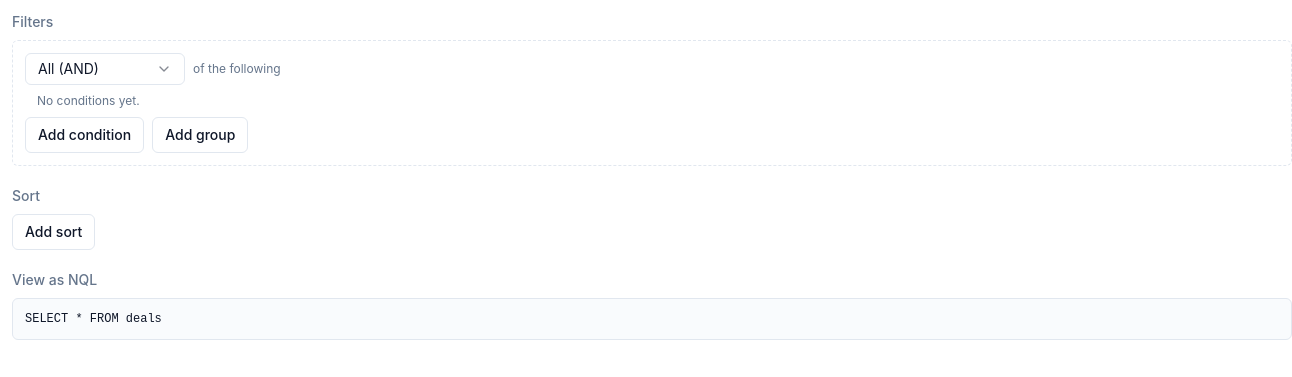
it: QueryBuilder › removes a condition
This screenshot has width=1292, height=377.
Click the button "Add condition" at (85, 135), box [25,117,144,153]
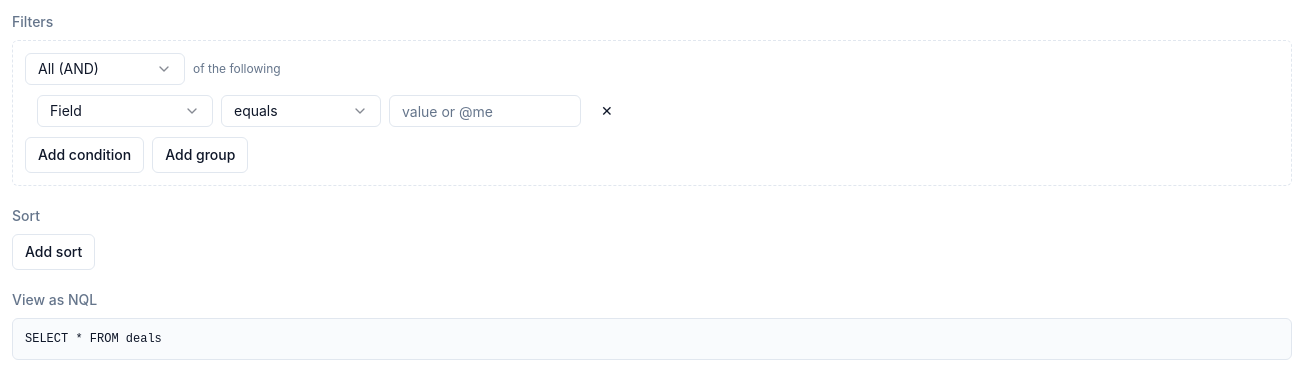
Click the dropdown labelled "Field" at (125, 111), box [37,95,213,127]
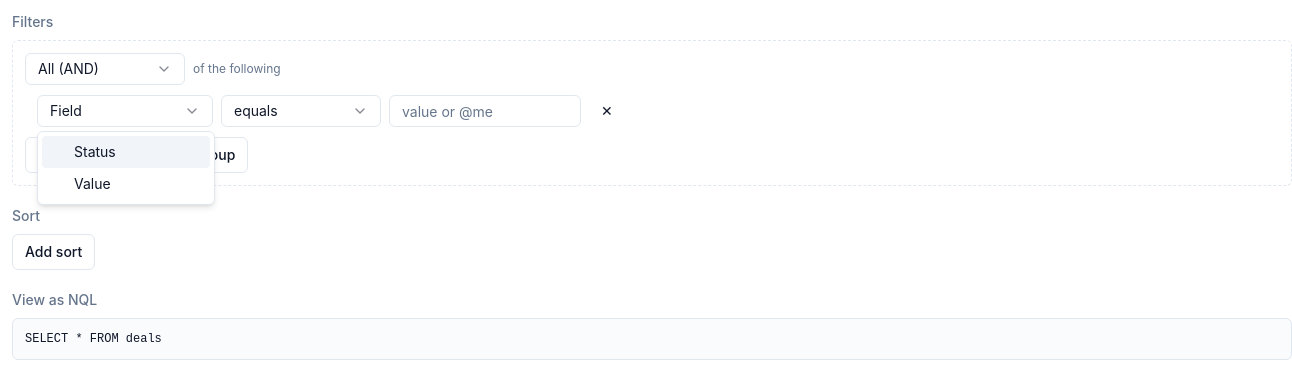
Click the option "Value" at (92, 184), box [74,175,111,192]
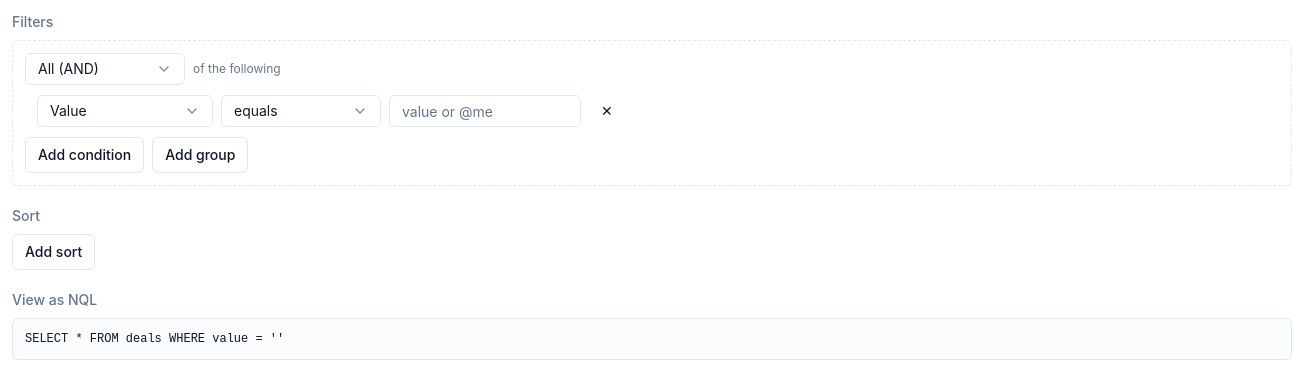
Click the button named "Remove condition" at (607, 111), box [589,93,625,129]
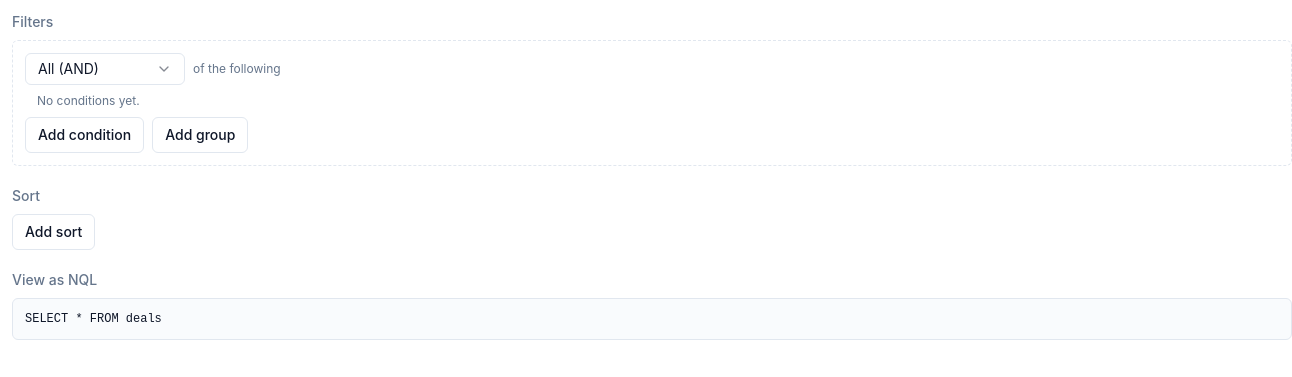
Result: the text "No conditions yet." is shown at [37,93,140,108]
